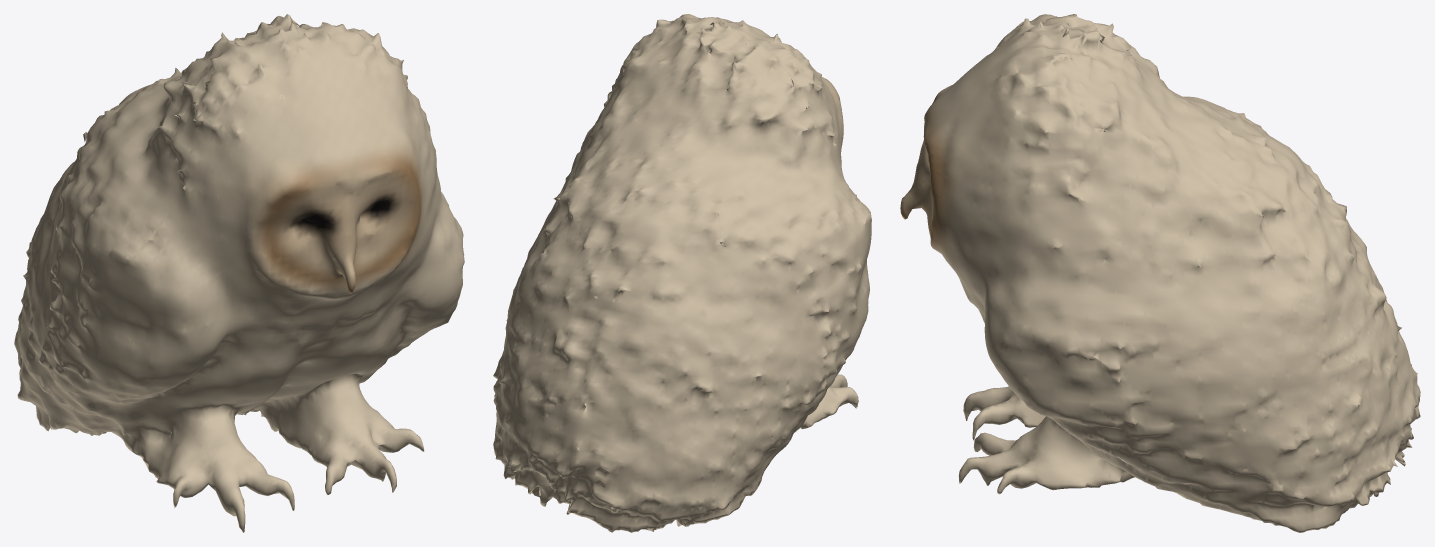
Rendered from painted-neural-ART_UNAPPROVED.glb.
3 renders of one model, left to right at view 1: azimuth 30°, elevation 25°; view 2: azimuth 150°, elevation 25°; view 3: azimuth 270°, elevation 25°, orthographic. The views are drawn at different scales.
Parts seen in each view (by area): view 1: run100_voxel_55k_REAL_NEURAL_SOURCE; view 2: run100_voxel_55k_REAL_NEURAL_SOURCE; view 3: run100_voxel_55k_REAL_NEURAL_SOURCE.
Part boxes in pixels (x1=…): run100_voxel_55k_REAL_NEURAL_SOURCE: x1=14, y1=14, x2=464, y2=532; run100_voxel_55k_REAL_NEURAL_SOURCE: x1=493, y1=14, x2=871, y2=532; run100_voxel_55k_REAL_NEURAL_SOURCE: x1=900, y1=14, x2=1420, y2=532.
Bounding box in the file's own units: 1.5 × 1.88 × 1.94.
